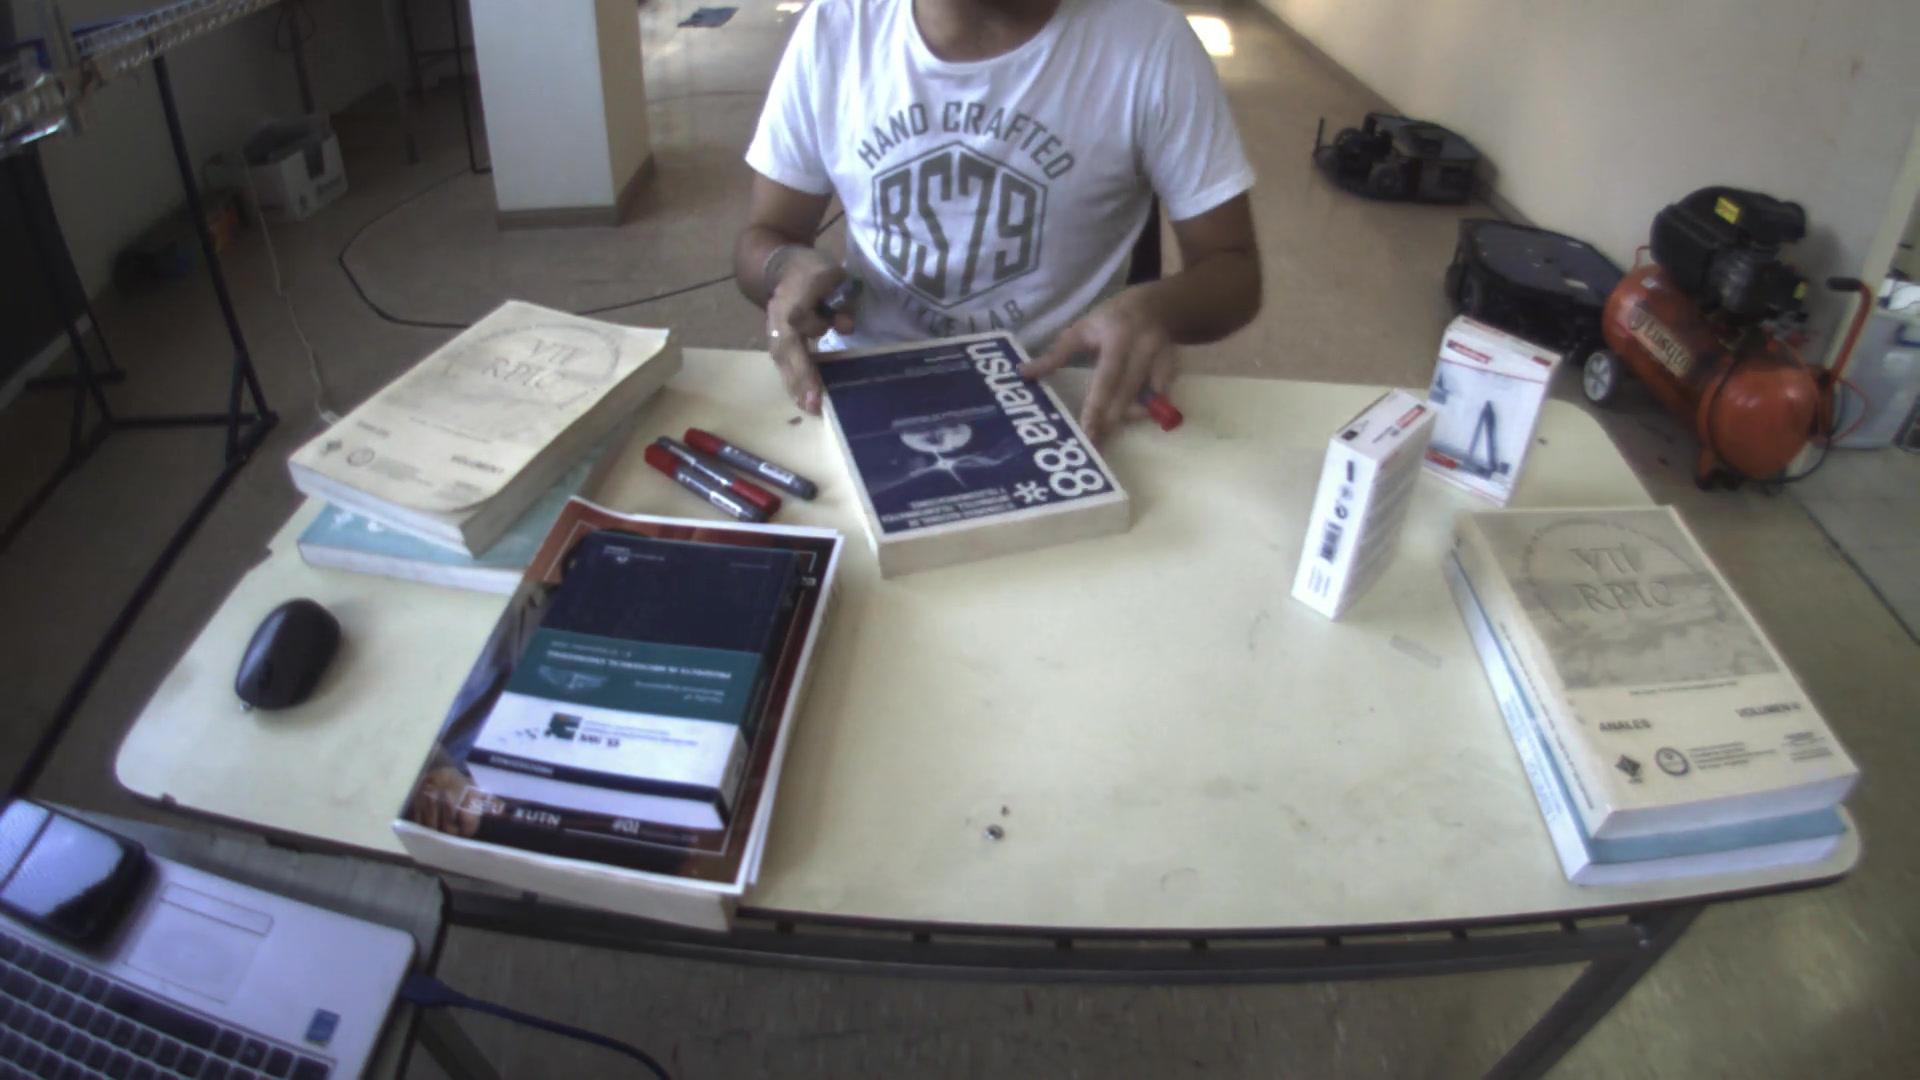hand: (1017, 280, 1192, 436)
